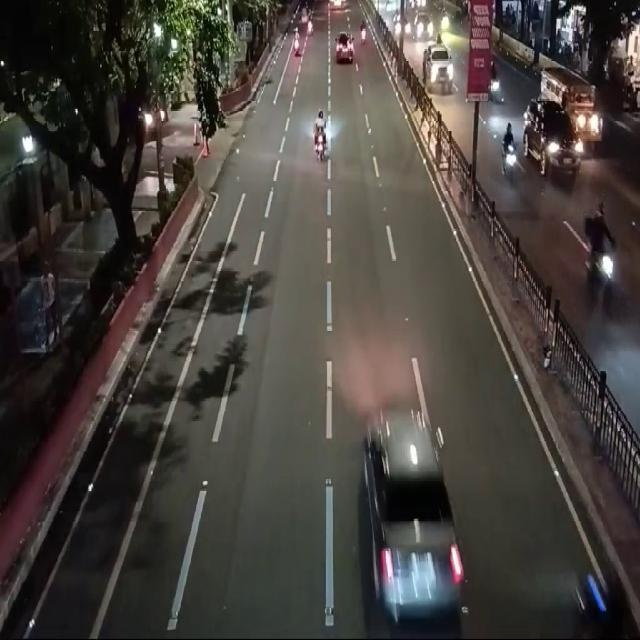car: (347, 369, 481, 629), (518, 97, 585, 186), (332, 19, 357, 76)
motorcycle: (574, 198, 621, 317), (492, 116, 518, 181), (313, 88, 332, 175)
